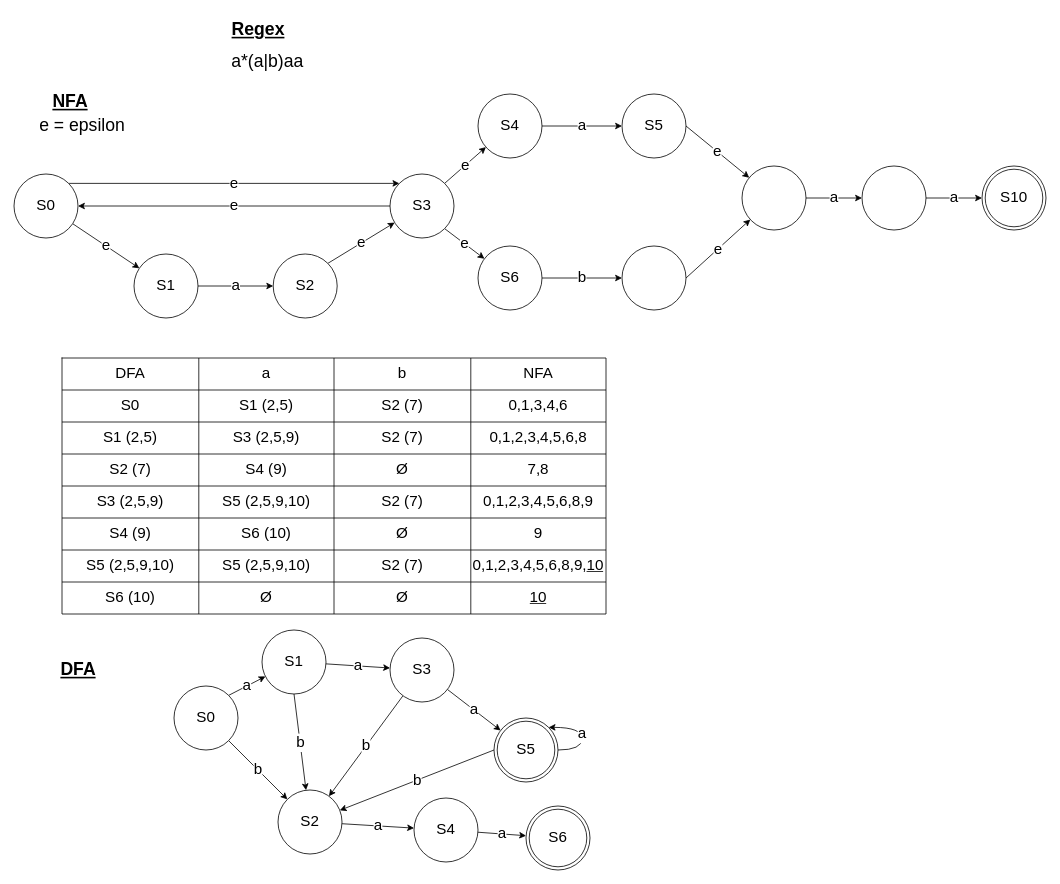
This 1060x884 diagram has some shape labels left out. The shapes that lost their labels are listed below. From the top down, each one's centre as x and y in pixels, then its label:
At point 773,197: "S8".
At point 893,197: "S9".
At point 653,277: "S7".
